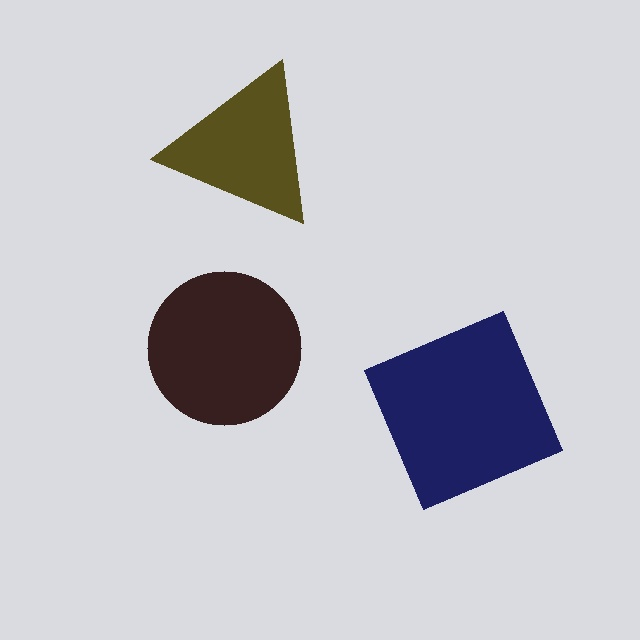circle: (146, 270, 302, 426)
square: (363, 311, 562, 509)
triangle: (149, 58, 303, 223)
